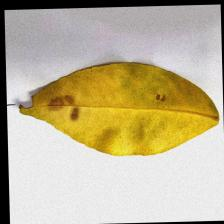black spot: (6, 79, 173, 143)
